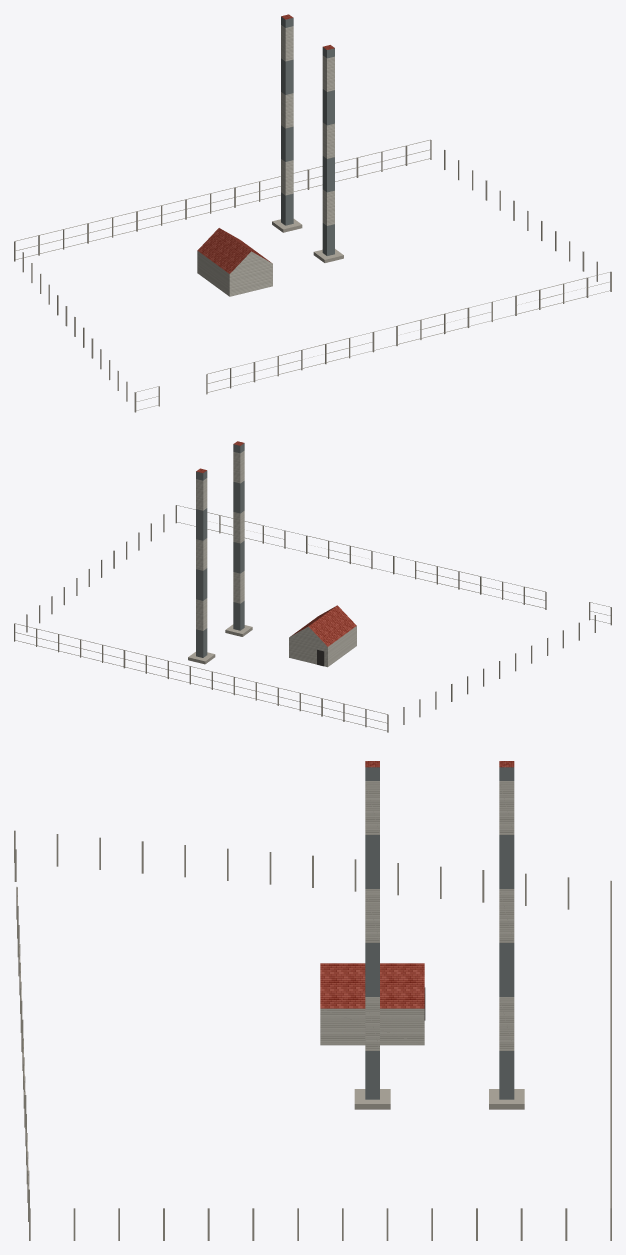
Rendered from cyxd_ndb_zxd_lod1.gltf.
The picture shows the model from 3 angles, top to bottom: view 1: azimuth 30°, elevation 25°; view 2: azimuth 150°, elevation 25°; view 3: azimuth 270°, elevation 25°; orthographic projection. The views are drawn at different scales.
Visible parts, largest first — view 1: cyxd_ndb_zxd; view 2: cyxd_ndb_zxd; view 3: cyxd_ndb_zxd.
Boxes of the visible parts, x1,y1,x2,y2 form: cyxd_ndb_zxd: (14, 14, 611, 412); cyxd_ndb_zxd: (14, 441, 611, 732); cyxd_ndb_zxd: (14, 761, 611, 1240).
Size of the model in its own units: 60.12 by 25 by 40.12.
